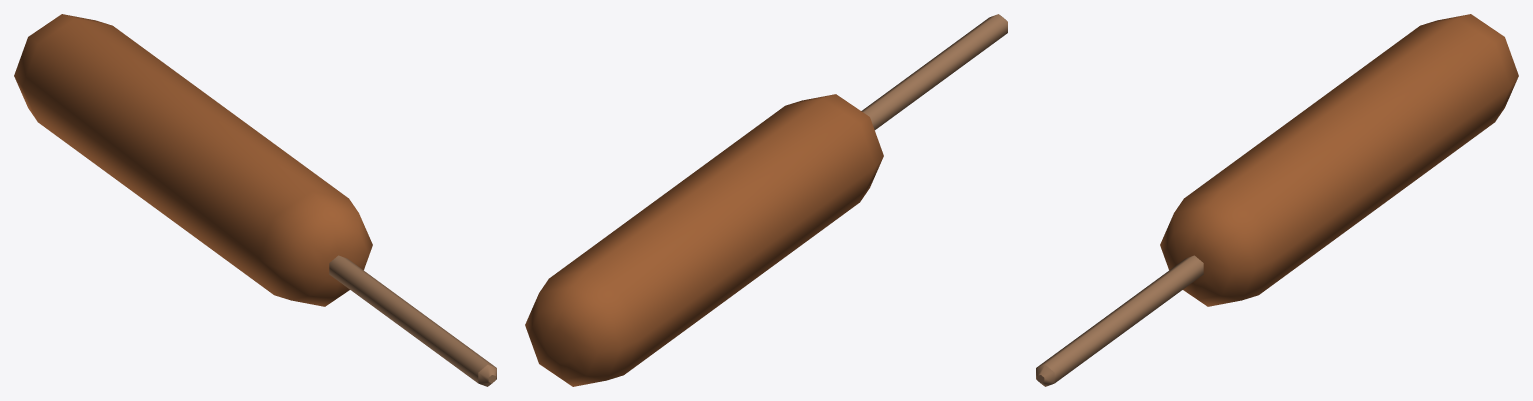
Rendered from CornDog_01.fbx.
The picture shows the model from 3 angles, left to right: view 1: azimuth 30°, elevation 25°; view 2: azimuth 150°, elevation 25°; view 3: azimuth 330°, elevation 25°; orthographic projection.
Visible parts, largest first — view 1: CornDog_01; view 2: CornDog_01; view 3: CornDog_01.
Part boxes in pixels (left/top/right/bottom): CornDog_01: left=14, top=14, right=496, bottom=386; CornDog_01: left=525, top=14, right=1007, bottom=386; CornDog_01: left=1036, top=14, right=1518, bottom=386.
Bounding box in the file's own units: 0.0291 × 0.0291 × 0.2109.
